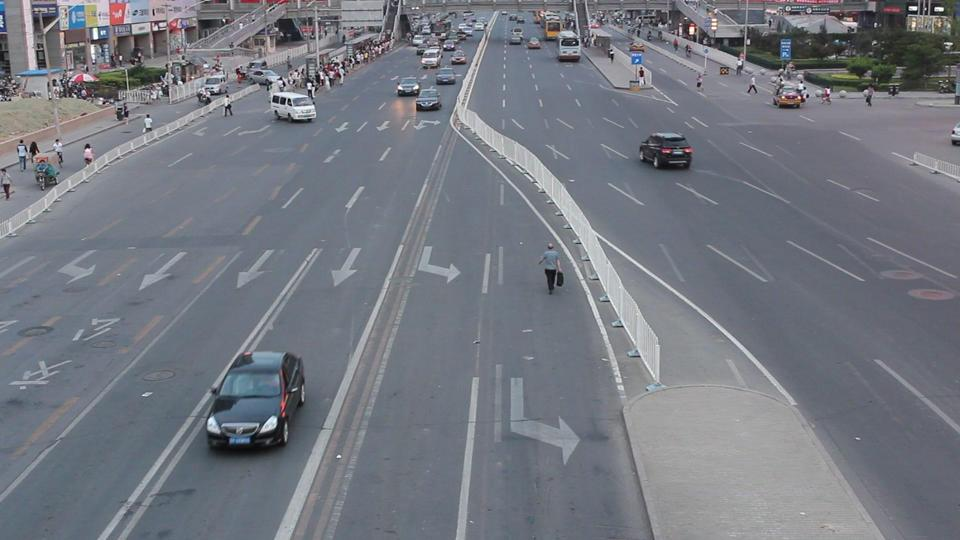Car: (204, 349, 305, 450), (638, 129, 691, 169)
